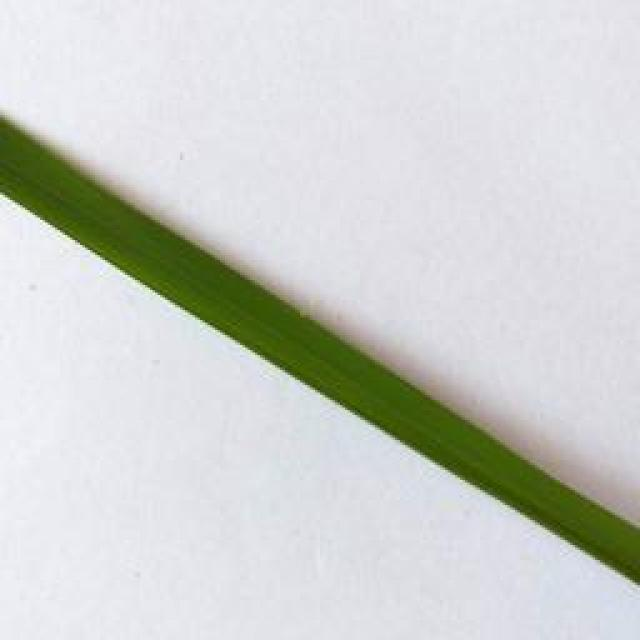Healthy-Plant: (0, 115, 640, 591)
